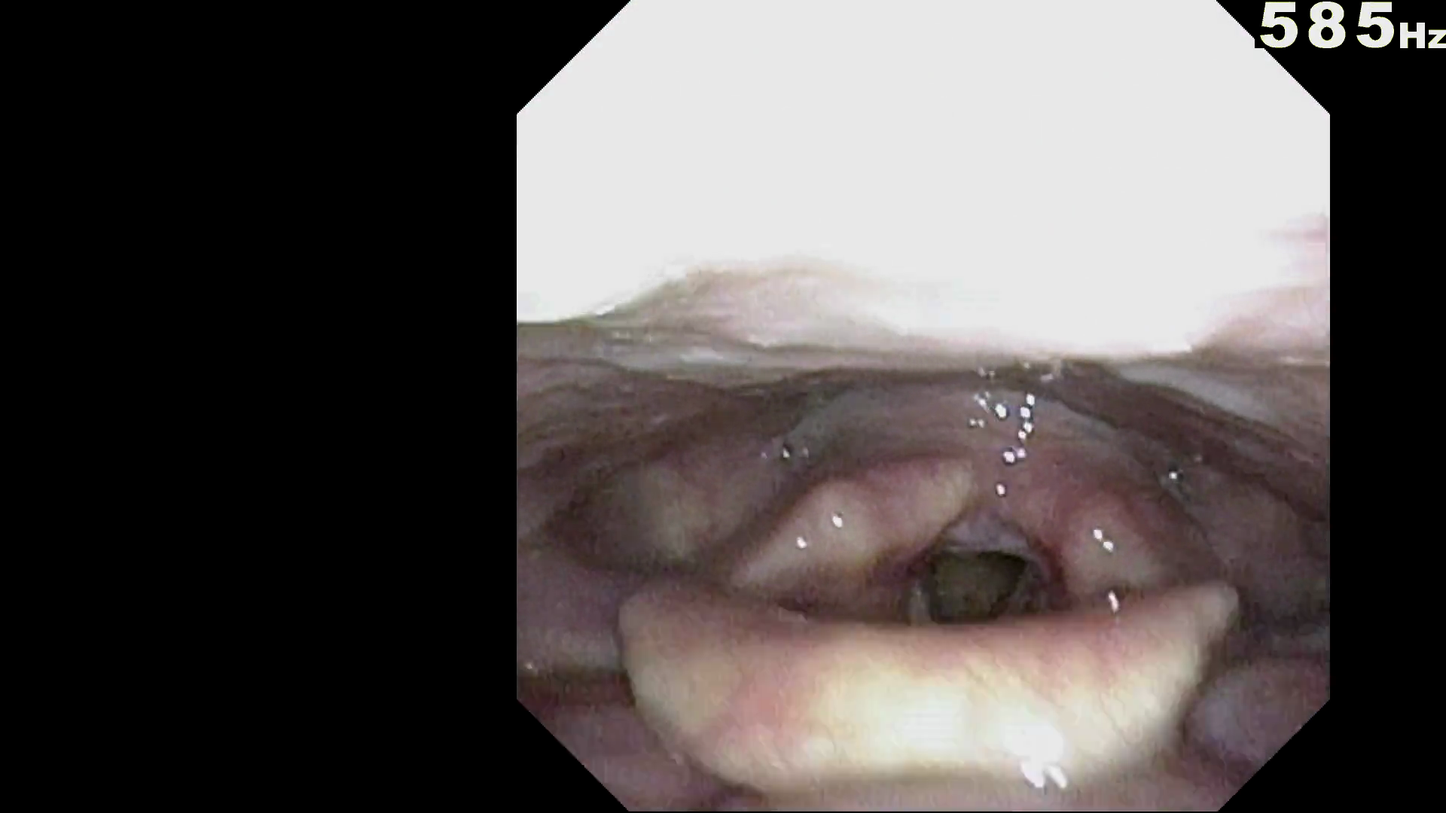epiglottis: (668, 639, 1209, 779)
trachea: (910, 550, 1038, 689)
